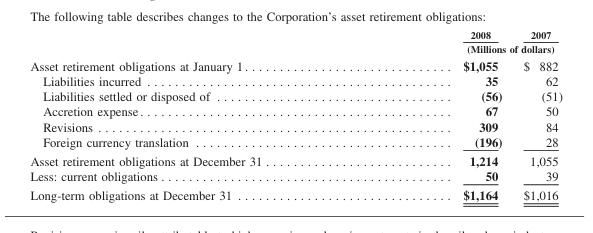table: (29, 28, 561, 202)
table column: (29, 28, 361, 202), (361, 28, 512, 202), (512, 28, 561, 202)
table column header: (29, 28, 561, 56)
table row: (29, 150, 561, 168), (29, 133, 561, 150), (29, 168, 561, 185), (29, 185, 561, 202), (29, 56, 561, 72), (29, 72, 561, 88), (29, 41, 561, 56), (29, 88, 561, 103), (29, 103, 561, 118), (29, 118, 561, 133), (29, 28, 561, 41)
table spanning cell: (361, 41, 561, 56)
